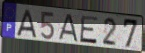2: (102, 17, 118, 48)
5: (39, 10, 56, 41)
7: (122, 17, 140, 50)
A: (56, 14, 80, 44), (16, 9, 38, 39)
E: (79, 14, 100, 45)
